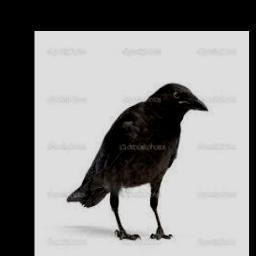Crow: (66, 83, 208, 241)
